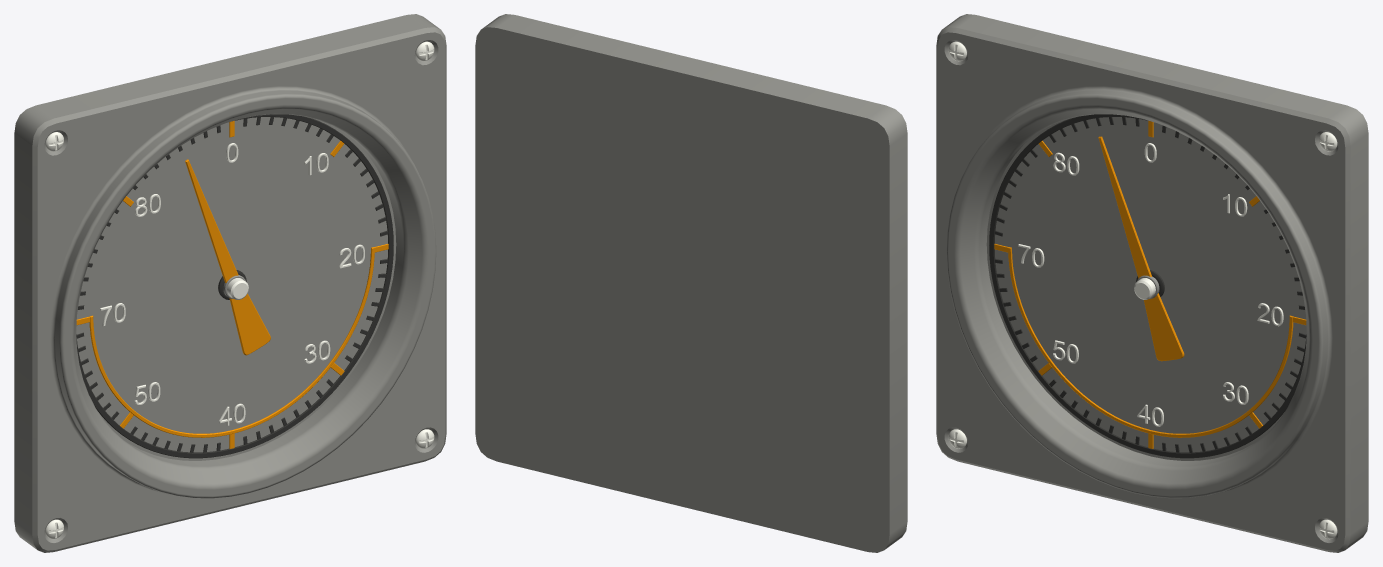
The model's file is Speedometer #3.fbx.
3 renders of one model, left to right at view 1: azimuth 30°, elevation 25°; view 2: azimuth 150°, elevation 25°; view 3: azimuth 330°, elevation 25°, orthographic.
Visible parts, largest first — view 1: kitbash_05; view 2: kitbash_05; view 3: kitbash_05.
Part boxes in pixels (x1,y1,x2,y2): kitbash_05: (14,14,446,552); kitbash_05: (475,14,907,552); kitbash_05: (936,14,1368,552).
Size of the model in its own units: 15.98 by 15.98 by 1.86.
